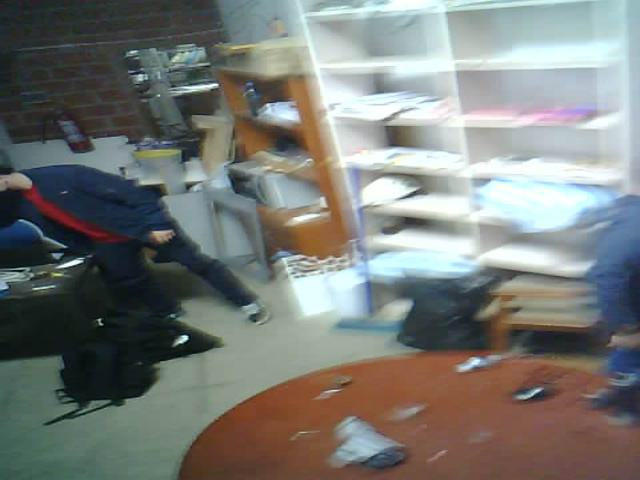person: (0, 141, 286, 345)
